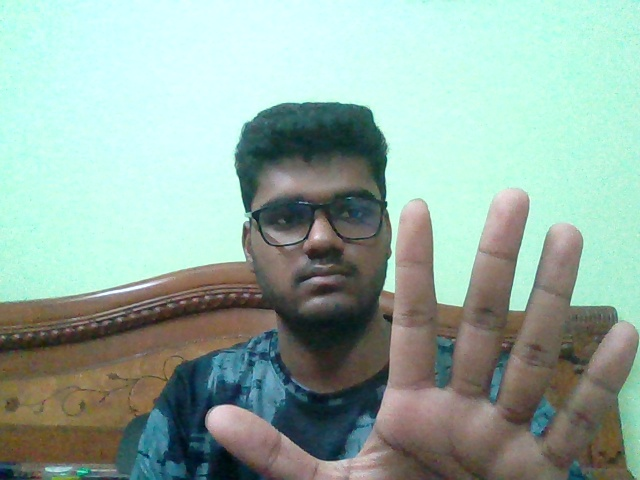Paper: (206, 188, 640, 480)
